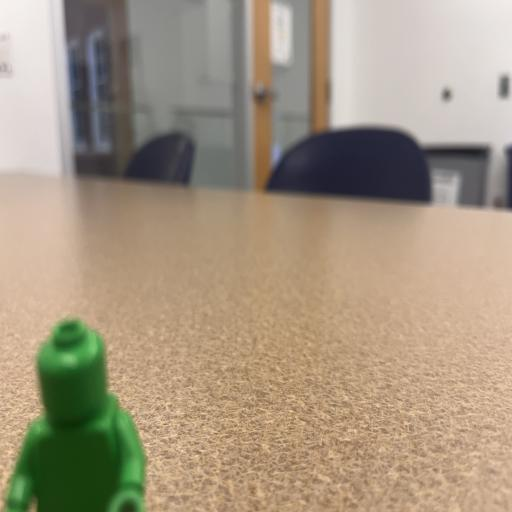Lego-Minifig: (38, 319, 107, 426)
